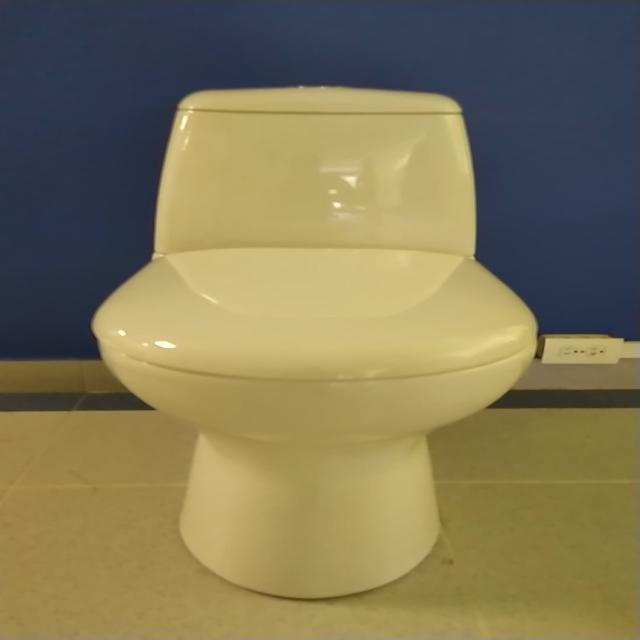toilet: (90, 85, 539, 599)
